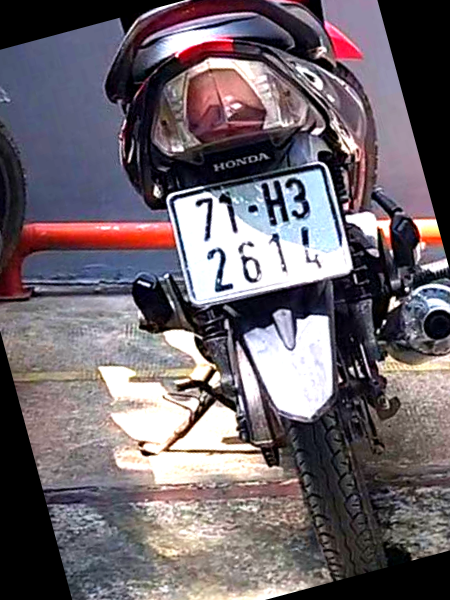number: (169, 161, 358, 306)
